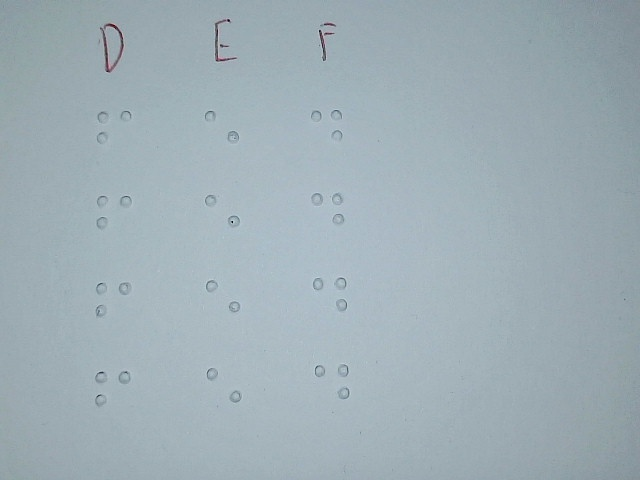D: (307, 99, 347, 168), (308, 182, 348, 251), (310, 266, 350, 335), (312, 353, 352, 422)
E: (201, 99, 246, 169), (201, 182, 246, 252), (202, 269, 247, 339), (202, 357, 247, 427)
F: (94, 99, 134, 168), (94, 185, 134, 254), (93, 270, 133, 339), (93, 358, 133, 427)
